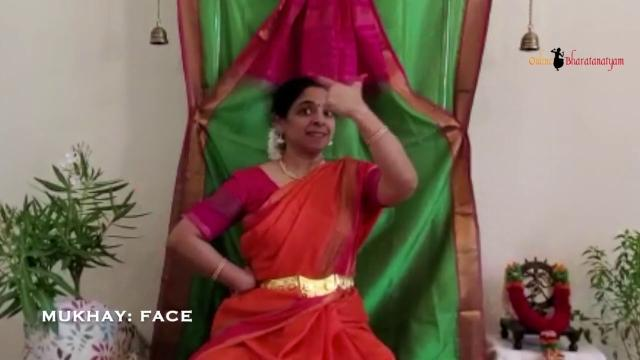chandrakala: (290, 50, 388, 132)
